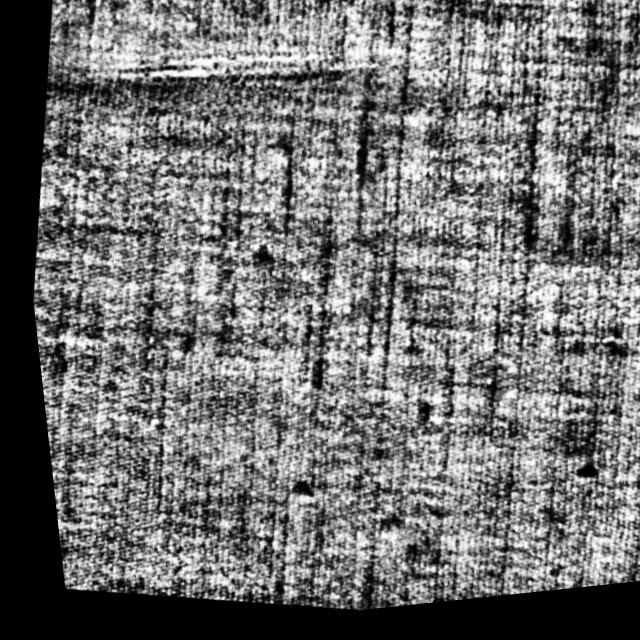Stitch: (73, 8, 387, 136)
